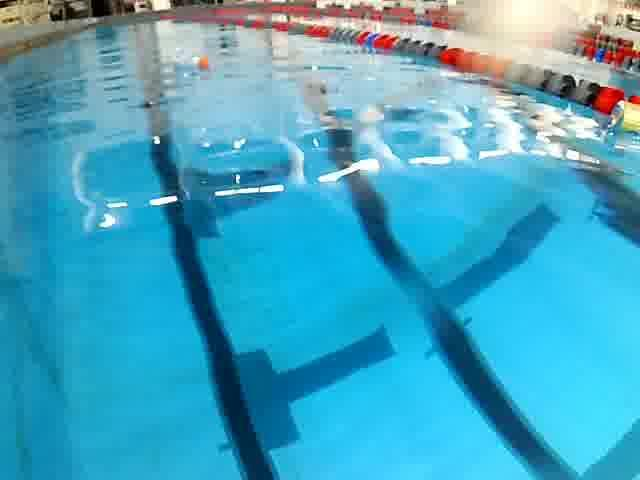Bottle: (160, 47, 223, 77)
